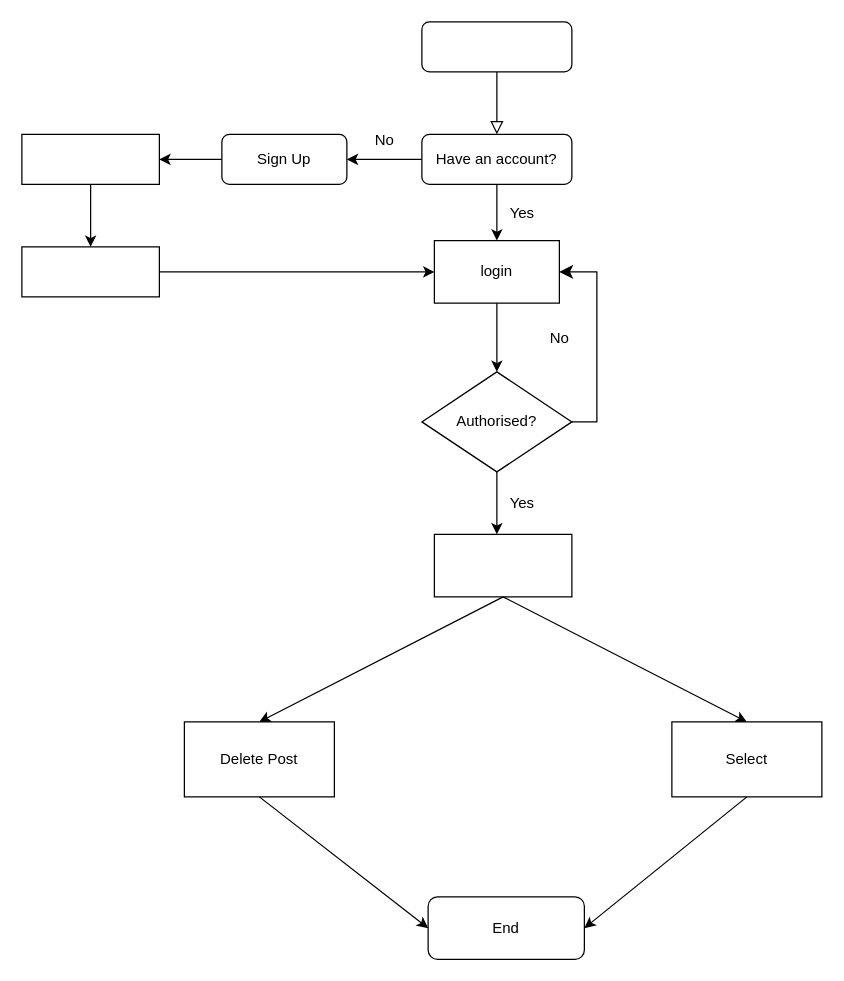
The diagram is 844 pixels wide and 981 high, and some of its shapes have lost their labels. The centre of each missing label's shape, as x and y in pixels:
"Fill Infrormation" goes at [90,158].
"Login into System" goes at [502,565].
"Start" goes at [496,46].
"Submit" goes at [90,271].
